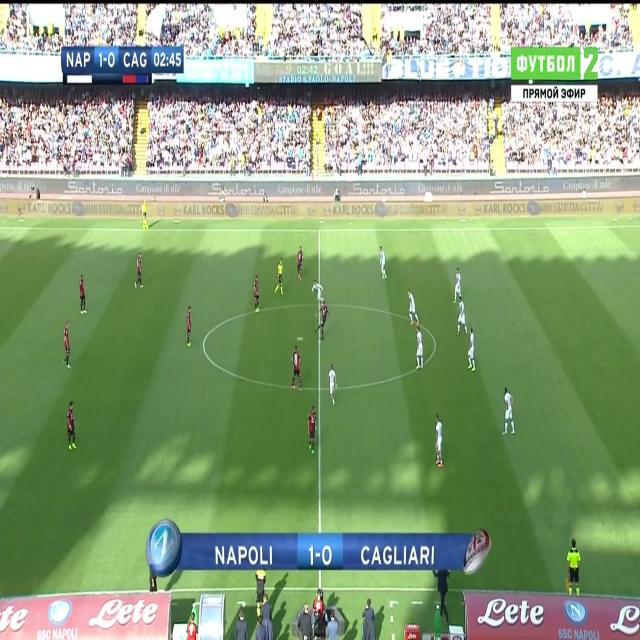Ball: (296, 332, 304, 345)
Player: (432, 412, 447, 469), (501, 383, 516, 438), (313, 298, 329, 343), (306, 404, 319, 458), (290, 344, 304, 392), (65, 400, 77, 455), (406, 288, 422, 328), (467, 325, 478, 376), (61, 321, 72, 371), (456, 295, 468, 340), (76, 272, 87, 318), (450, 266, 463, 304), (133, 252, 145, 292), (326, 366, 337, 408), (377, 244, 389, 282), (251, 272, 261, 314), (415, 324, 424, 370), (186, 304, 194, 352), (310, 280, 325, 304), (294, 246, 304, 281)
Referee: (563, 536, 582, 596), (272, 256, 285, 297), (138, 198, 150, 232)
